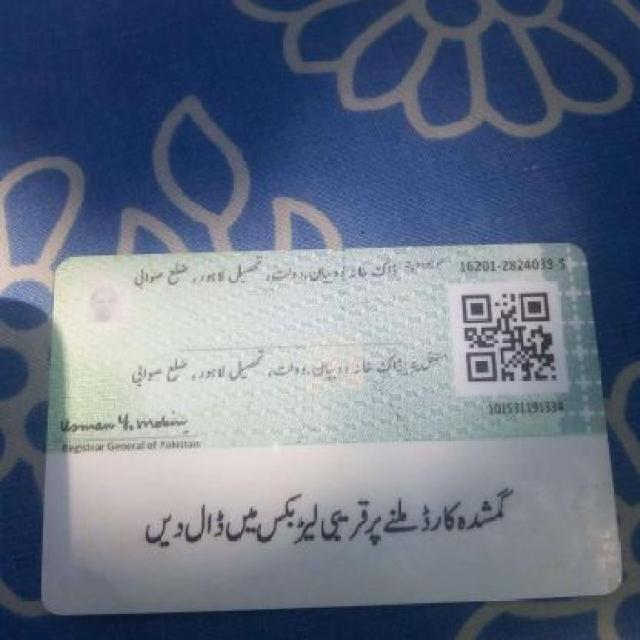Back: (40, 237, 623, 605)
